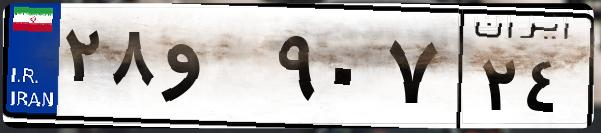0: (330, 28, 385, 110)
2: (57, 26, 110, 100), (475, 38, 525, 113)
4: (525, 38, 570, 115)
7: (385, 28, 445, 110)
8: (110, 28, 158, 98)
9: (270, 28, 330, 110)
و: (158, 20, 270, 120)
